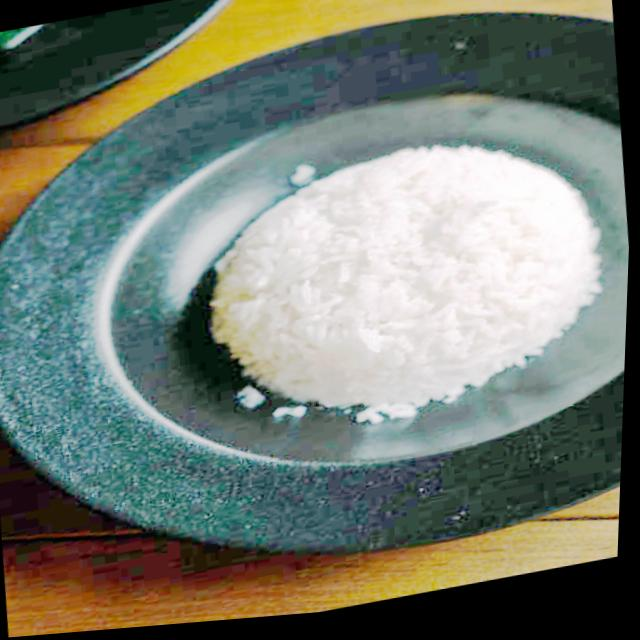rice: (196, 112, 621, 455)
